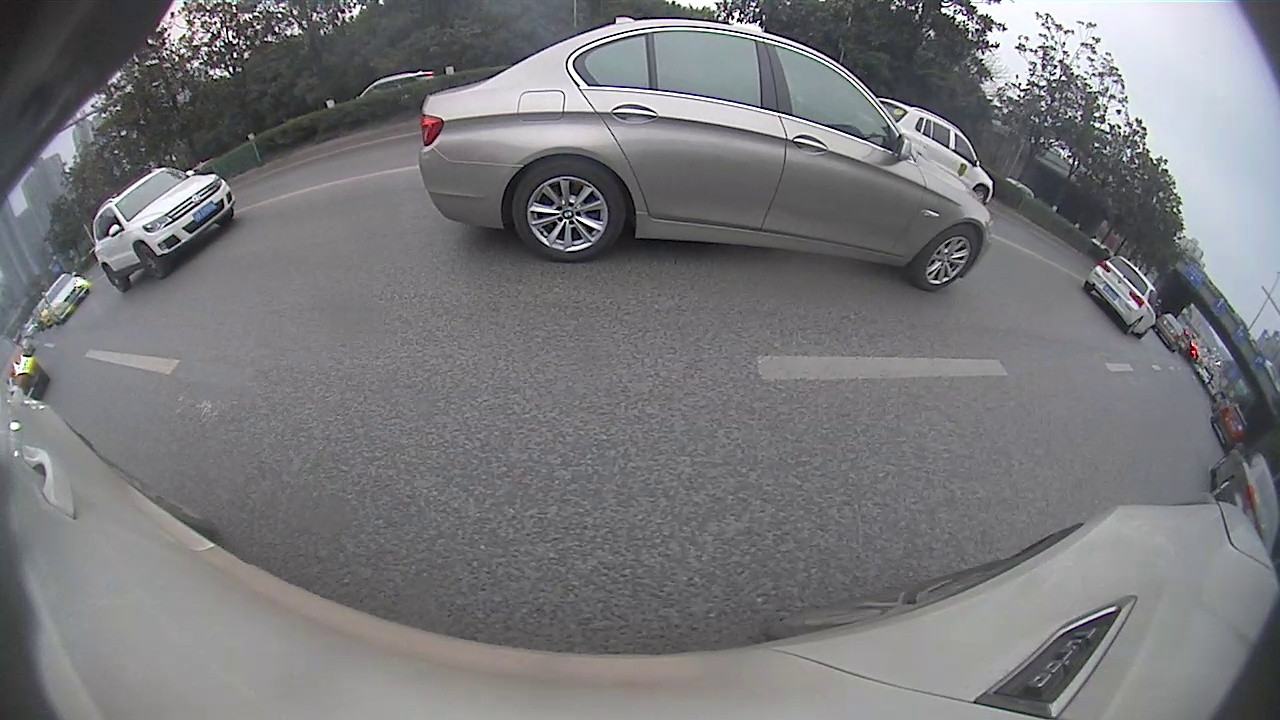car: (417, 15, 992, 292), (92, 165, 236, 293), (881, 96, 995, 204), (1082, 254, 1158, 340), (0, 336, 53, 407), (46, 271, 93, 325), (1210, 400, 1248, 455), (1153, 313, 1184, 353)
front: (915, 222, 986, 291), (134, 241, 165, 281), (974, 182, 990, 202)
rear: (513, 155, 629, 264), (103, 262, 125, 291)
